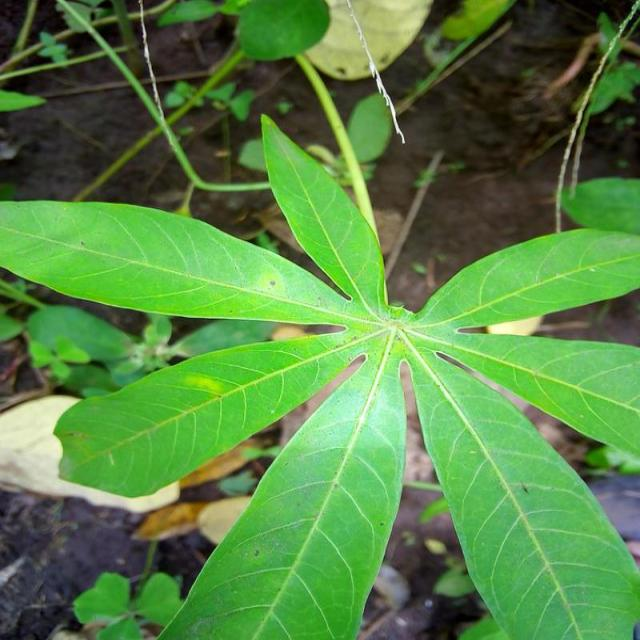cassava leaf: (2, 110, 640, 638), (156, 338, 408, 638)
